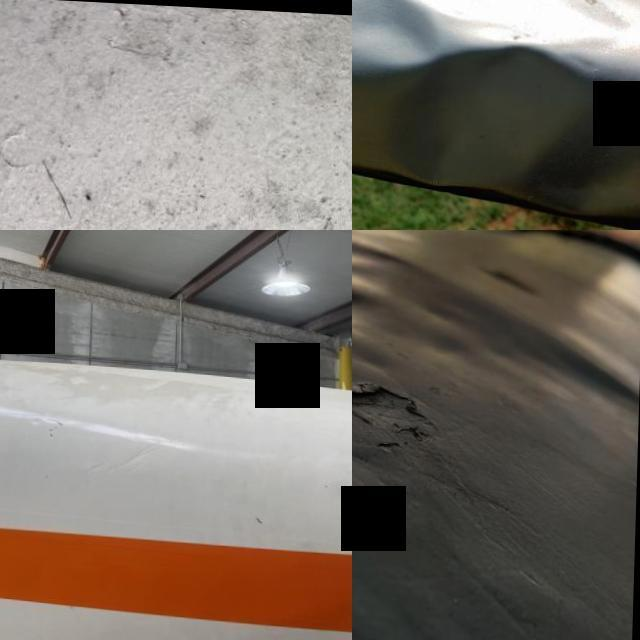Crack: (352, 335, 450, 446)
Dent: (352, 0, 640, 230), (352, 242, 398, 340), (28, 413, 46, 422)
